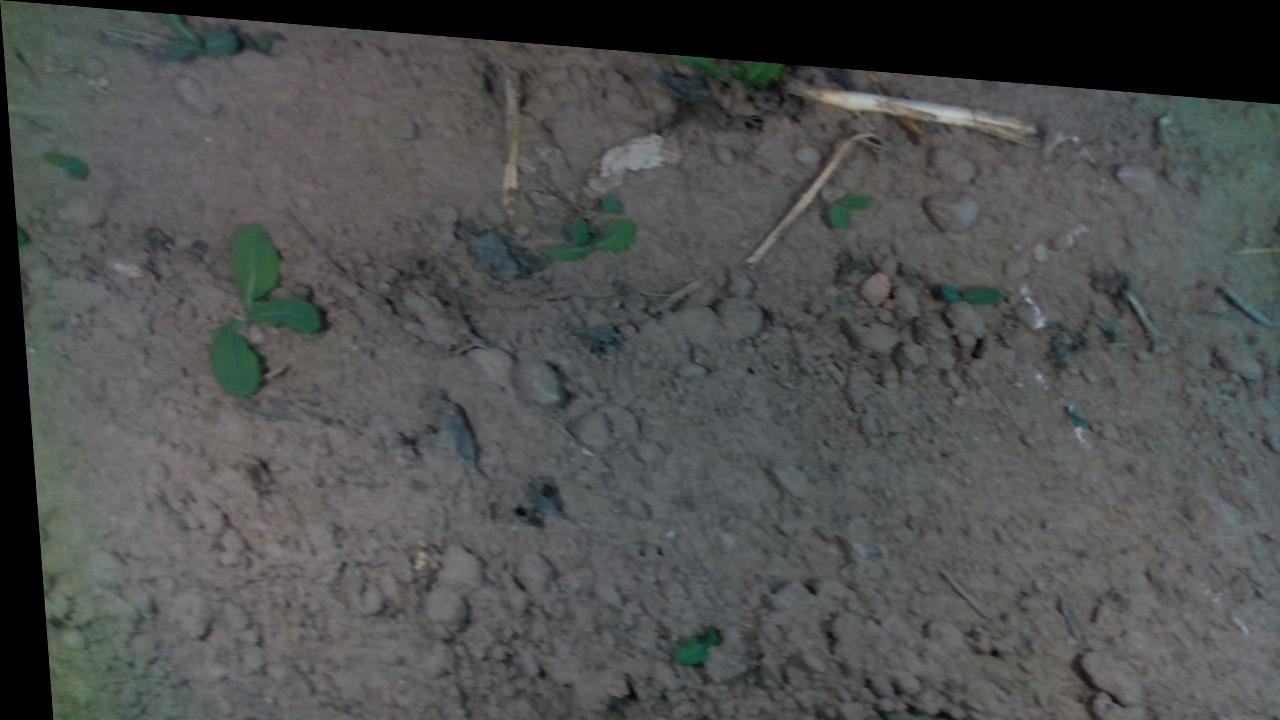weed: (193, 211, 322, 402), (527, 196, 635, 257), (820, 172, 875, 218), (933, 262, 999, 290)
